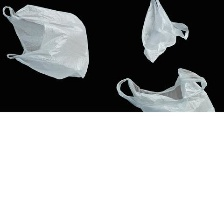plastic_bag: (0, 0, 92, 82), (113, 64, 220, 114), (137, 0, 190, 67)
